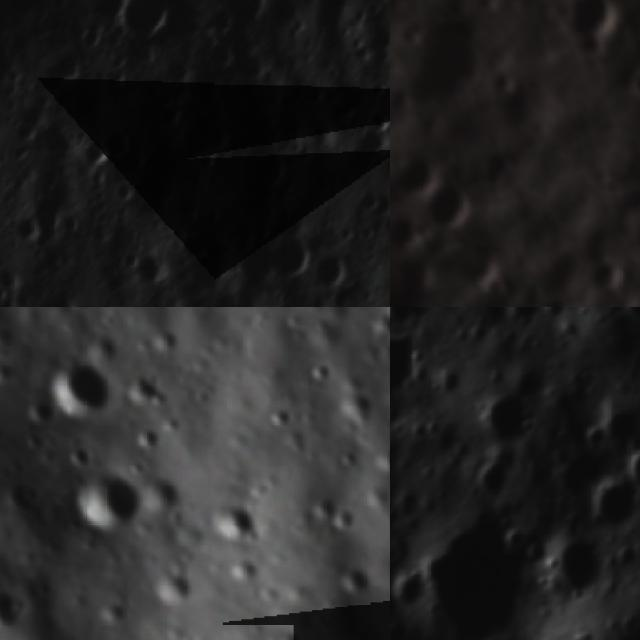crater: (423, 522, 537, 640), (547, 532, 615, 612), (82, 466, 148, 531), (46, 359, 104, 416), (555, 453, 611, 508), (482, 394, 538, 448), (264, 231, 316, 286), (594, 405, 640, 466), (588, 484, 638, 537), (477, 456, 528, 507), (184, 124, 236, 173), (563, 0, 612, 52), (390, 327, 424, 400), (417, 187, 469, 233), (122, 0, 175, 45), (390, 567, 428, 618), (49, 50, 91, 95), (246, 150, 291, 192), (211, 504, 255, 546), (122, 370, 165, 409), (15, 209, 48, 247), (329, 395, 377, 421), (153, 572, 190, 605), (227, 0, 270, 28), (316, 255, 352, 288), (87, 599, 130, 624), (138, 245, 164, 286), (338, 567, 374, 593), (86, 334, 123, 359), (505, 307, 549, 328), (332, 503, 363, 532), (365, 103, 390, 138), (621, 450, 640, 496), (109, 136, 140, 162), (241, 53, 267, 84), (150, 332, 182, 356), (131, 429, 164, 451), (0, 598, 19, 634), (88, 134, 108, 168), (305, 361, 336, 382), (265, 406, 296, 427), (25, 398, 49, 424), (60, 512, 84, 538), (624, 61, 640, 98), (66, 450, 95, 470), (22, 481, 42, 507), (19, 120, 42, 142), (372, 308, 390, 336), (44, 290, 73, 307), (313, 496, 331, 521), (0, 357, 14, 388), (372, 448, 390, 471), (286, 438, 308, 456), (49, 490, 71, 507), (337, 448, 357, 466), (161, 414, 179, 434), (127, 461, 147, 478)
